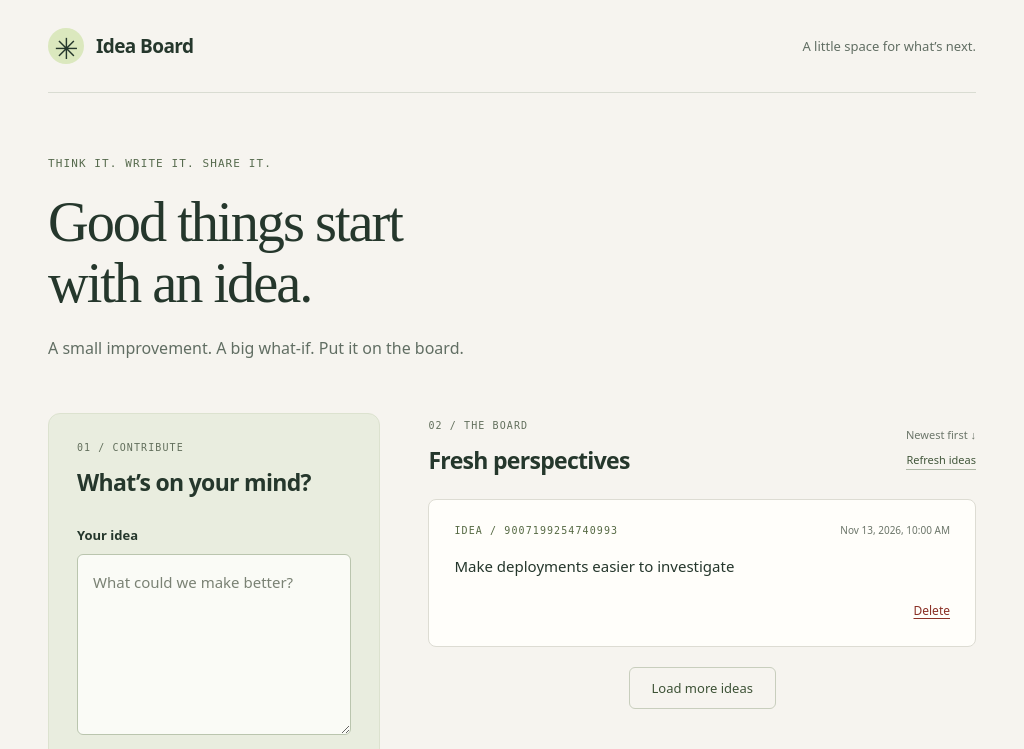
it: Idea Board › keeps loaded ideas when an older-page read fails and retries the same cursor
Expected: the button "Refresh ideas" is enabled, [906,452,976,470]
Click the button "Load more ideas" at (702, 688), box [628,667,776,709]
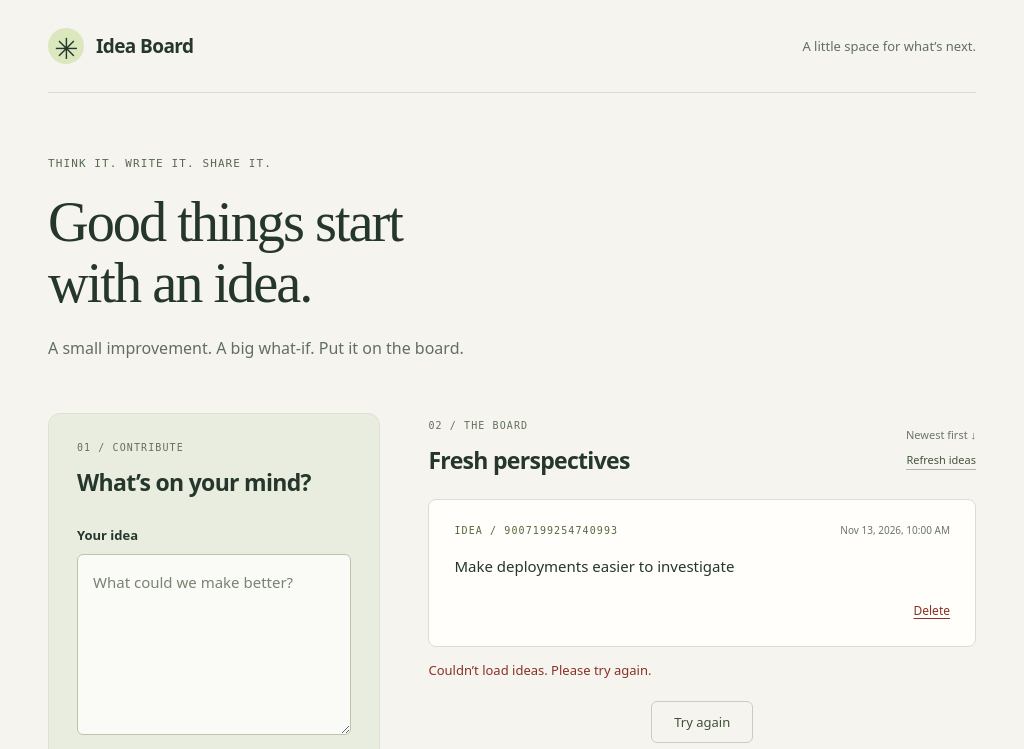
Expected: the text "Make deployments easier to investigate" is shown, [454,556,734,576]
Now the message "Couldn’t load ideas. Please try again." is shown, box [428,661,651,679]
Click the button "Try again" at (702, 722), box [651,700,753,742]
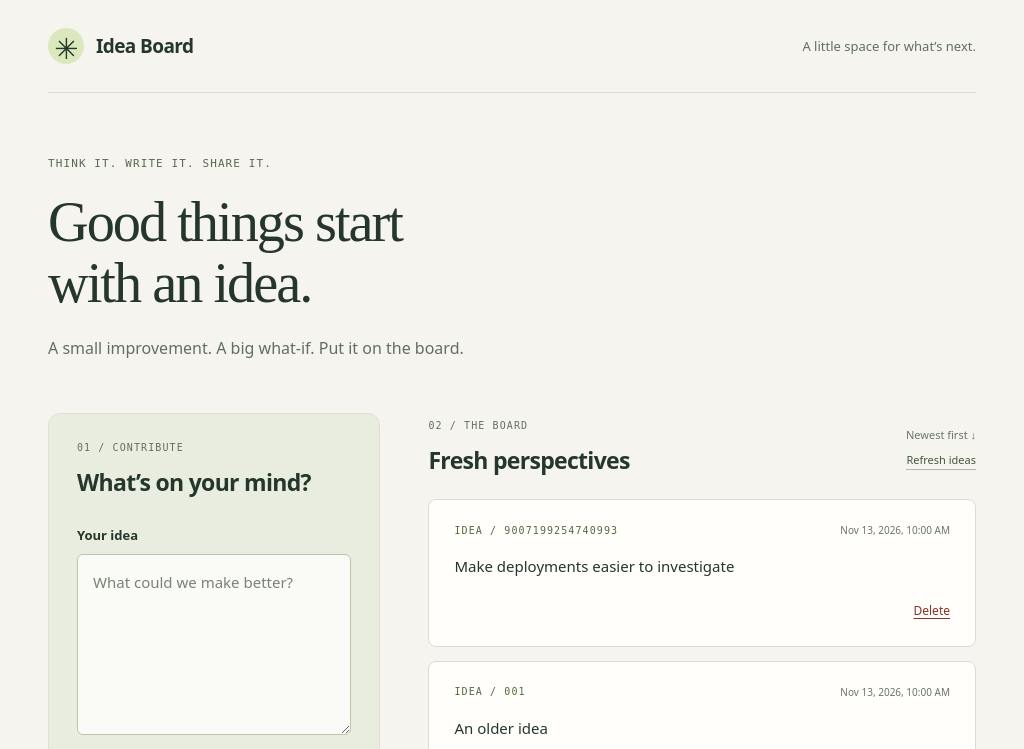
Expected: the button "Load more ideas" is not shown
Now the text "An older idea" is shown, box [454,718,548,738]
